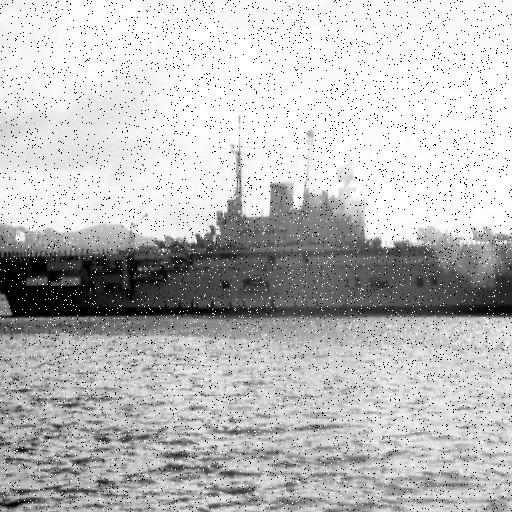Portanaves: (1, 109, 512, 328)
